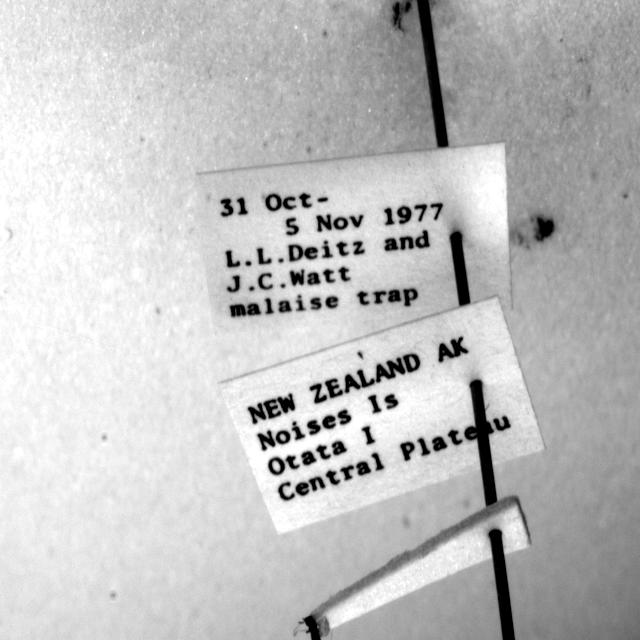typed_label: (220, 298, 544, 532), (198, 142, 511, 332)
